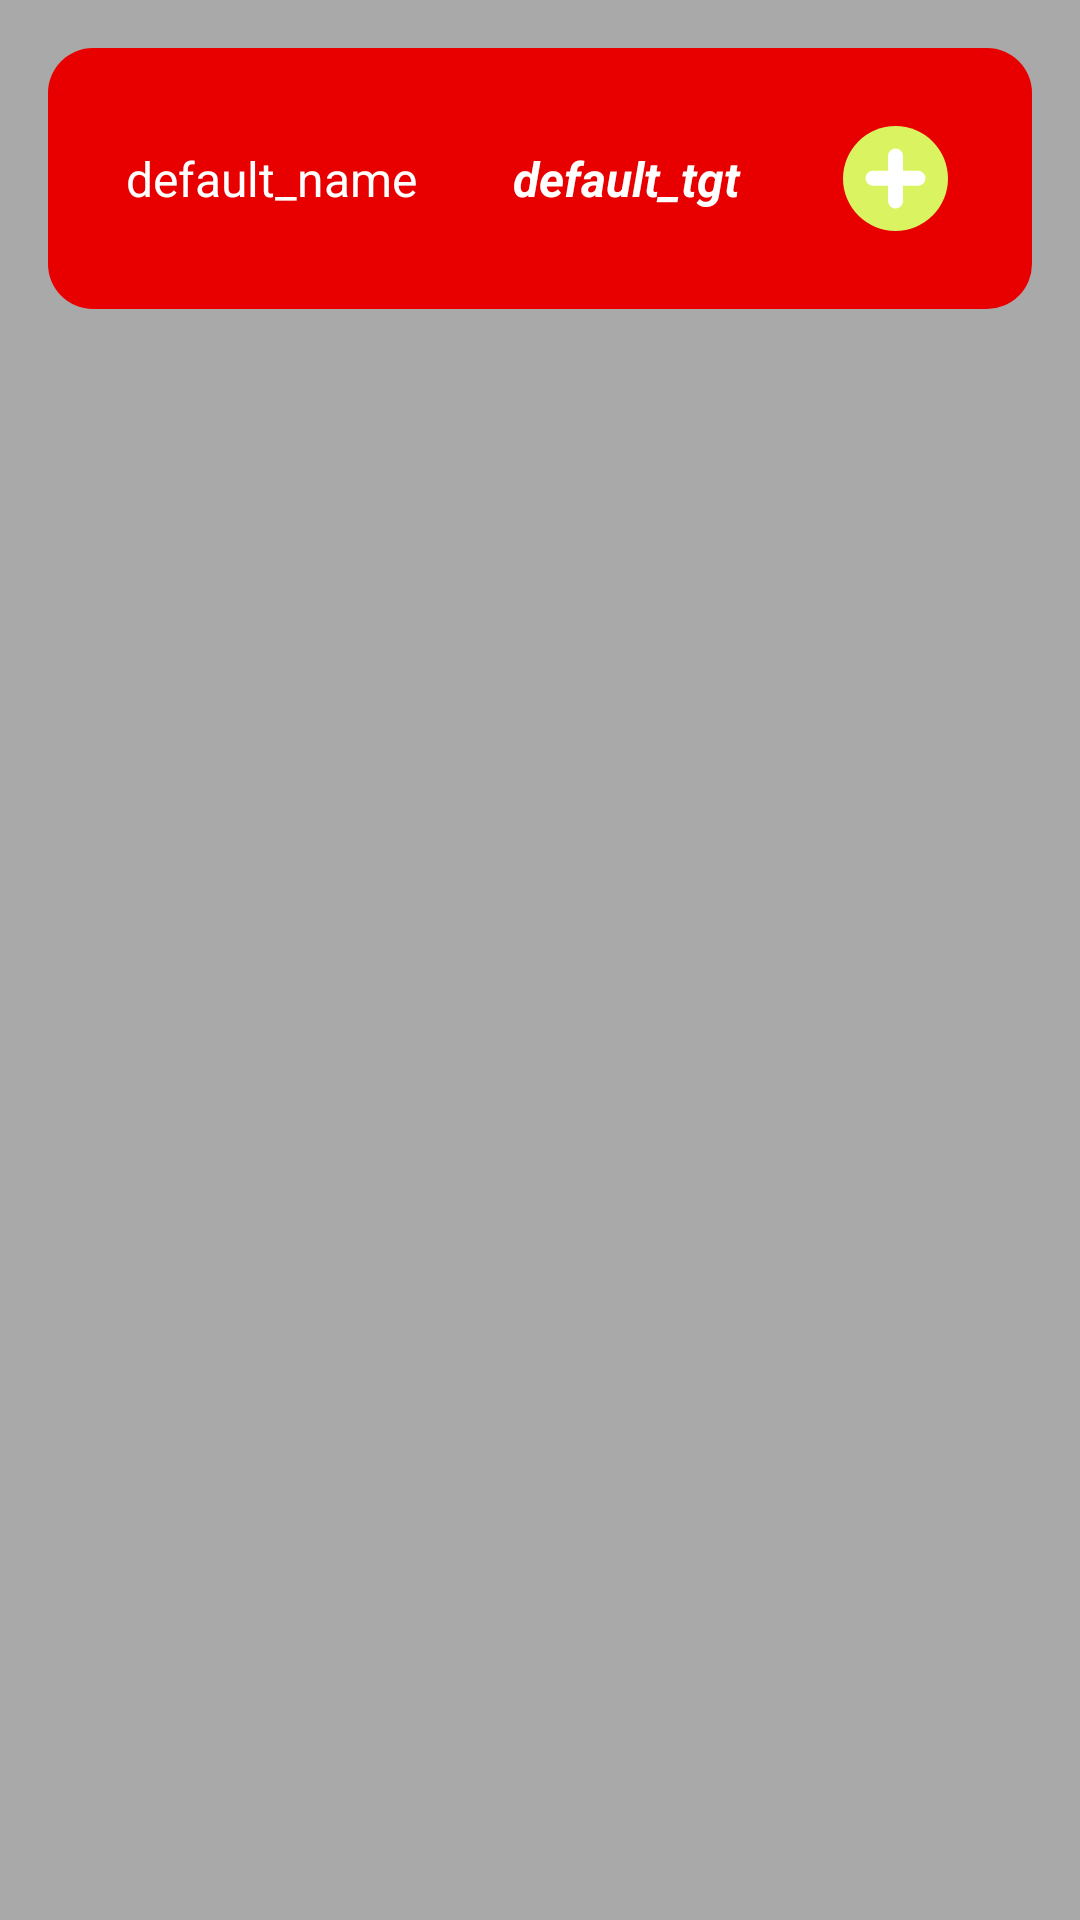

Icons on this 1080w x 1920h Android screen, each with the point to tap as (x,y):
Add to specific routine: (895,178)
